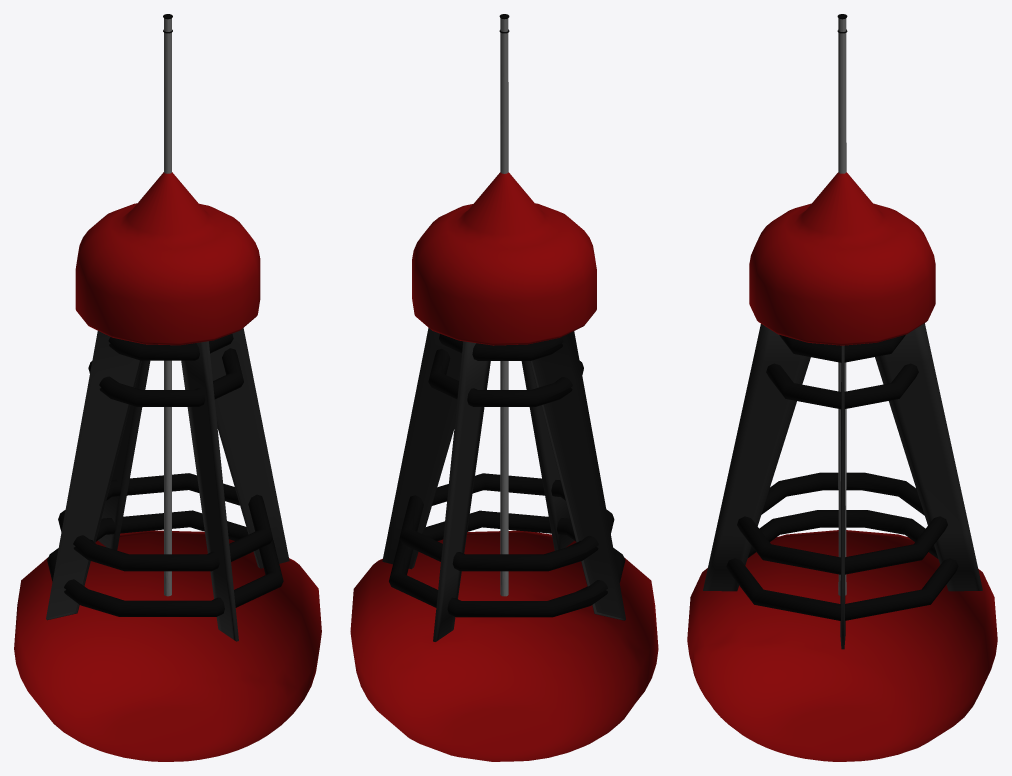
Rendered from Boa.fbx.
3 renders of one model, left to right at view 1: azimuth 30°, elevation 25°; view 2: azimuth 150°, elevation 25°; view 3: azimuth 270°, elevation 25°, orthographic.
Visible parts, largest first — view 1: Basi (Bases), Supporti (Supports), Anelli (Rings), Asta centrale (Central Rod); view 2: Basi (Bases), Supporti (Supports), Anelli (Rings), Asta centrale (Central Rod); view 3: Basi (Bases), Supporti (Supports), Anelli (Rings), Asta centrale (Central Rod).
Boxes of the visible parts, bbox=[...] form: Basi (Bases): bbox=[14, 172, 321, 761]; Supporti (Supports): bbox=[46, 328, 289, 641]; Anelli (Rings): bbox=[47, 334, 283, 616]; Asta centrale (Central Rod): bbox=[164, 18, 171, 596]; Basi (Bases): bbox=[350, 172, 658, 761]; Supporti (Supports): bbox=[382, 328, 625, 641]; Anelli (Rings): bbox=[389, 333, 625, 617]; Asta centrale (Central Rod): bbox=[500, 18, 508, 596]; Basi (Bases): bbox=[687, 172, 997, 761]; Supporti (Supports): bbox=[703, 323, 982, 649]; Anelli (Rings): bbox=[726, 334, 958, 620]; Asta centrale (Central Rod): bbox=[838, 18, 846, 595].
Bounding box in the file's own units: 200 × 509 × 200.
